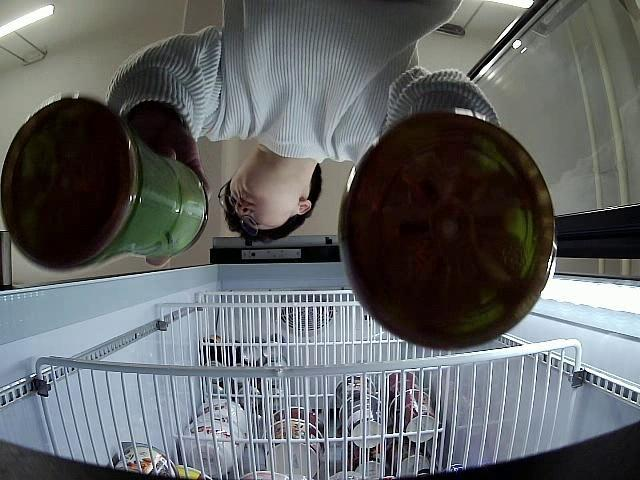19_17cha: (0, 92, 208, 274)
